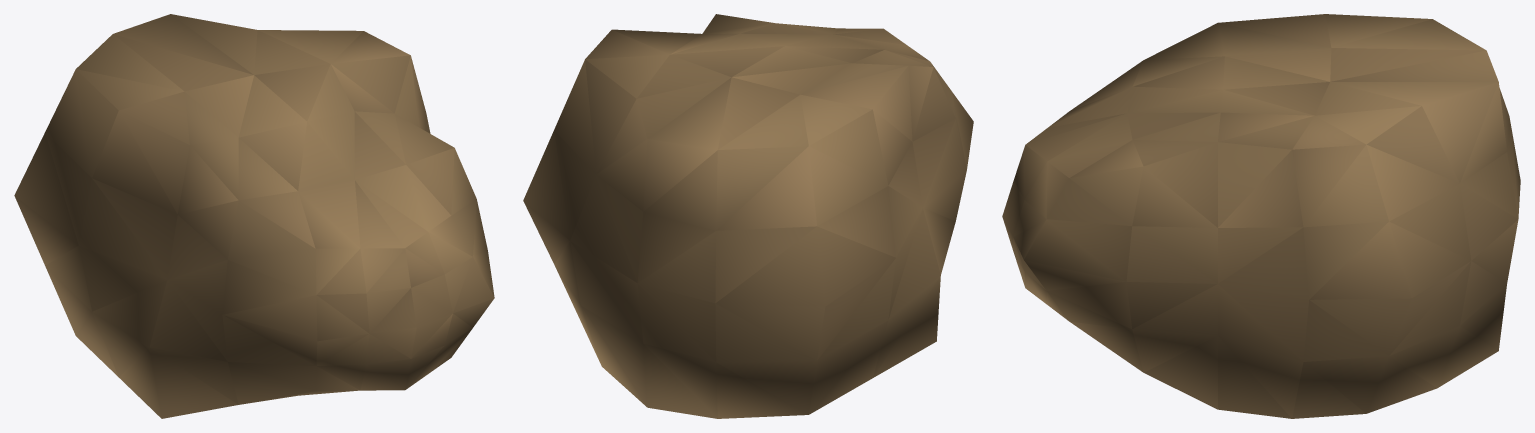
The model's file is SandChunk.008.glb.
3 views of the same model, side by side, from view 1: azimuth 30°, elevation 25°; view 2: azimuth 150°, elevation 25°; view 3: azimuth 270°, elevation 25° (orthographic).
Visible parts, largest first — view 1: SandChunk.008; view 2: SandChunk.008; view 3: SandChunk.008.
Part boxes in pixels (<box>): SandChunk.008: <box>14,14,494,418</box>; SandChunk.008: <box>523,14,973,418</box>; SandChunk.008: <box>1002,14,1520,418</box>.
Size of the model in its own units: 5.33 by 4.01 by 7.01.
